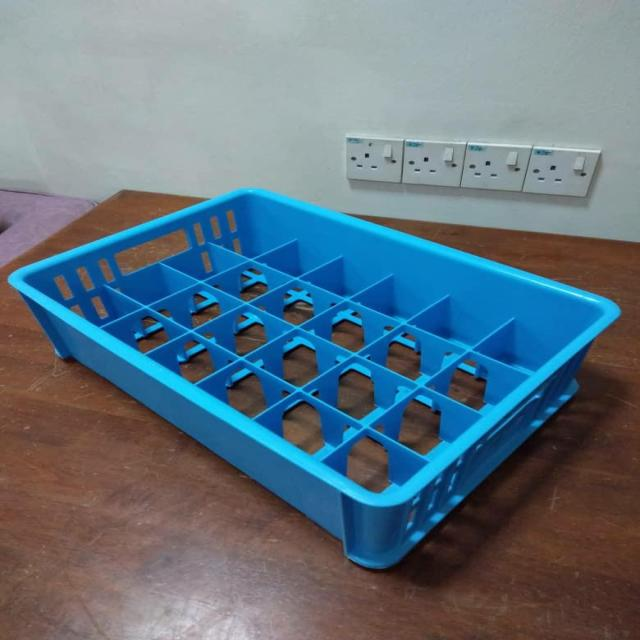plastic: (12, 188, 620, 568)
